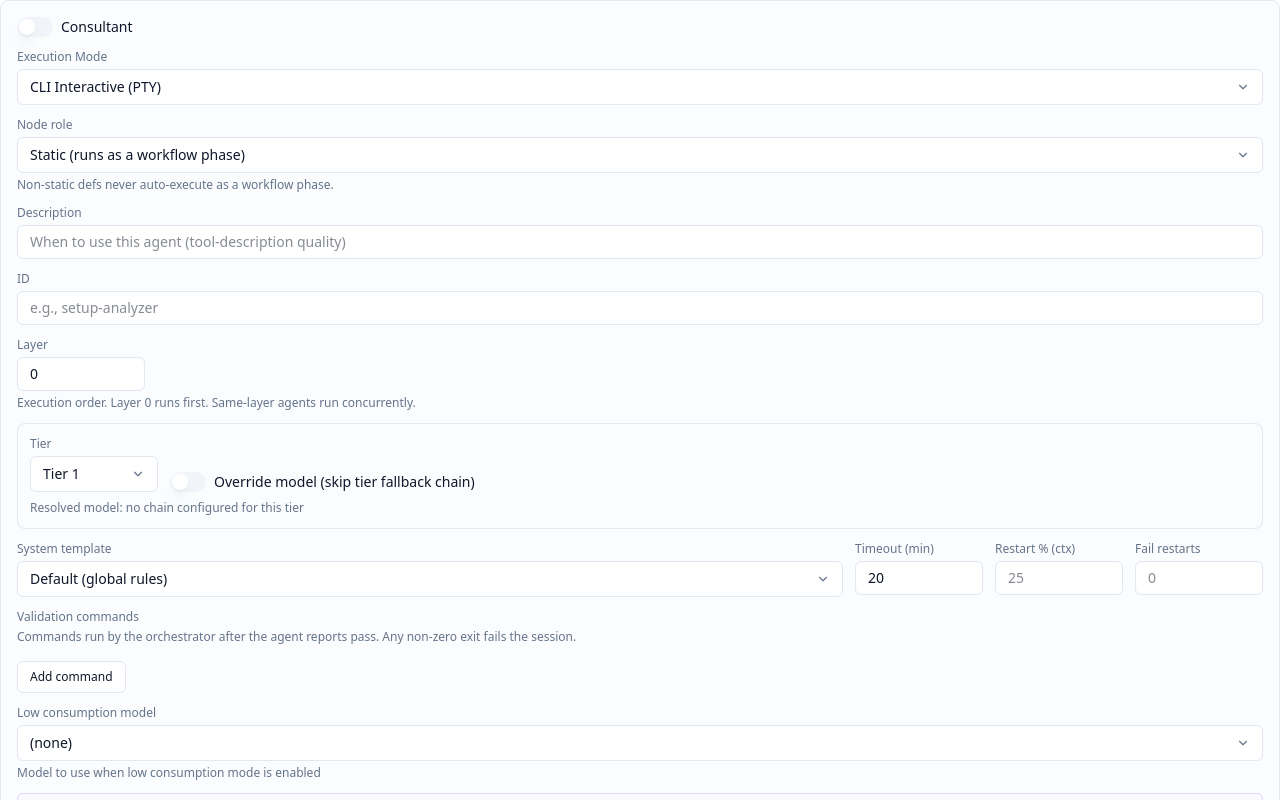
Scenario: AgentDefForm — model dropdown routing › api mode › switching back to cli restores CLI model options
Step 1. Click the button "CLI Interactive (PTY)" → (95, 86), box left=17, top=69, right=1263, bottom=105
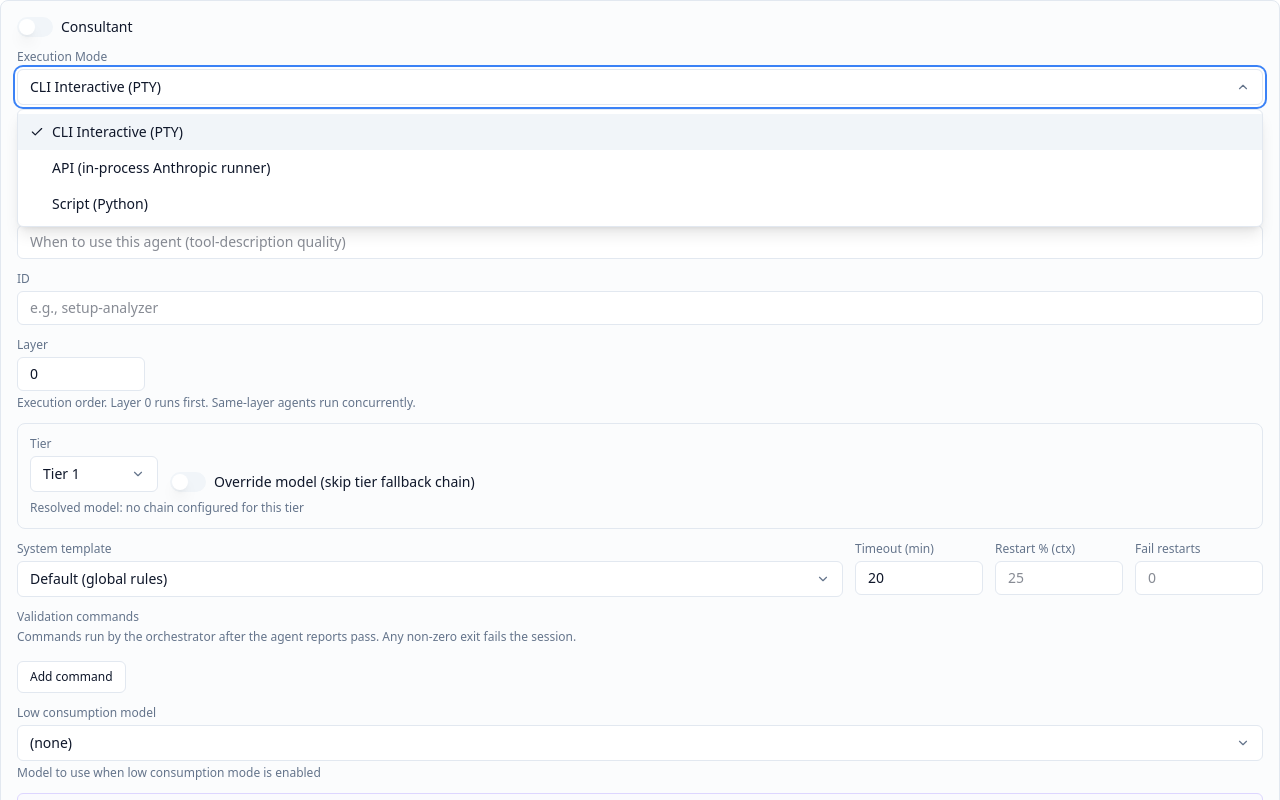
Step 2. Click the text "API (in-process Anthropic runner)" → (161, 168), box left=52, top=158, right=270, bottom=178
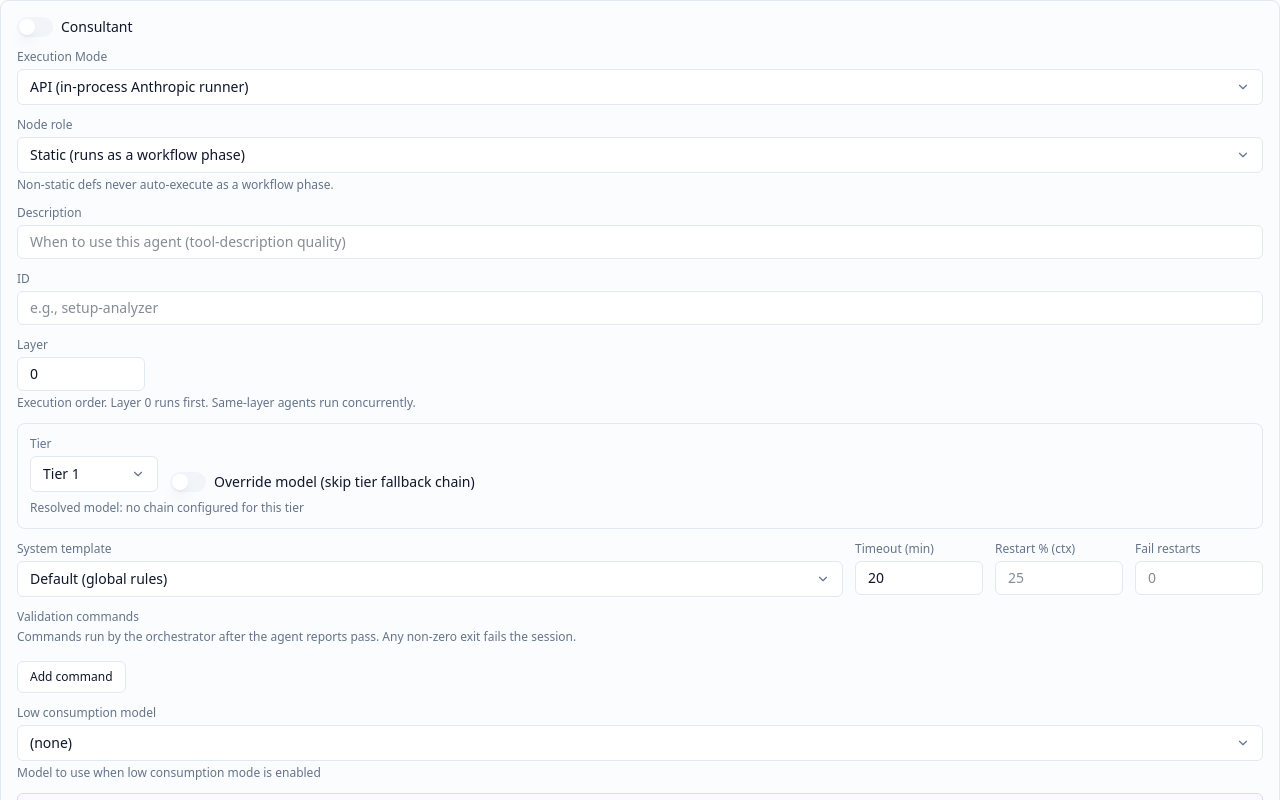
Step 3. Click the button "API (in-process Anthropic runner)" → (139, 86), box left=17, top=69, right=1263, bottom=105
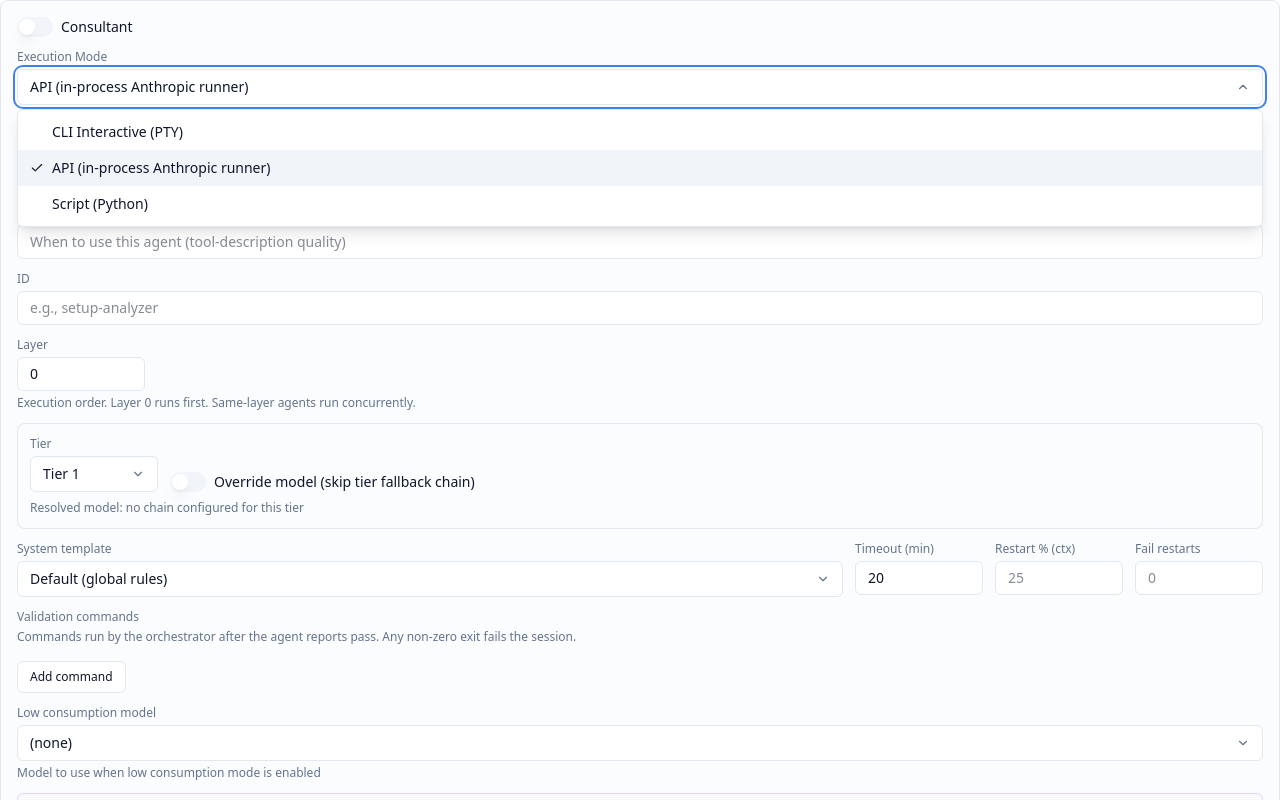
Step 4. Click the text "CLI Interactive (PTY)" → (117, 132), box left=52, top=122, right=183, bottom=142
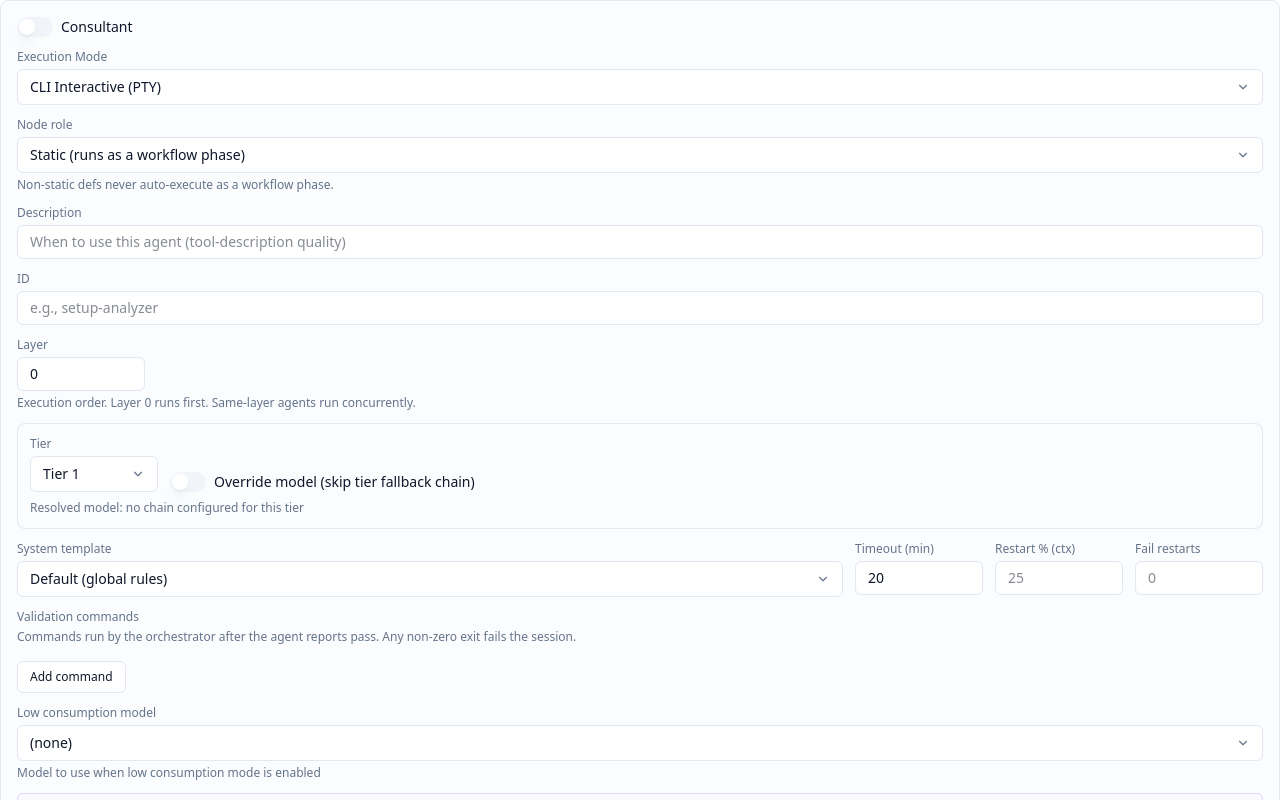
Step 5. Click the 2nd switch named "override model" → (188, 482), box left=170, top=472, right=206, bottom=492
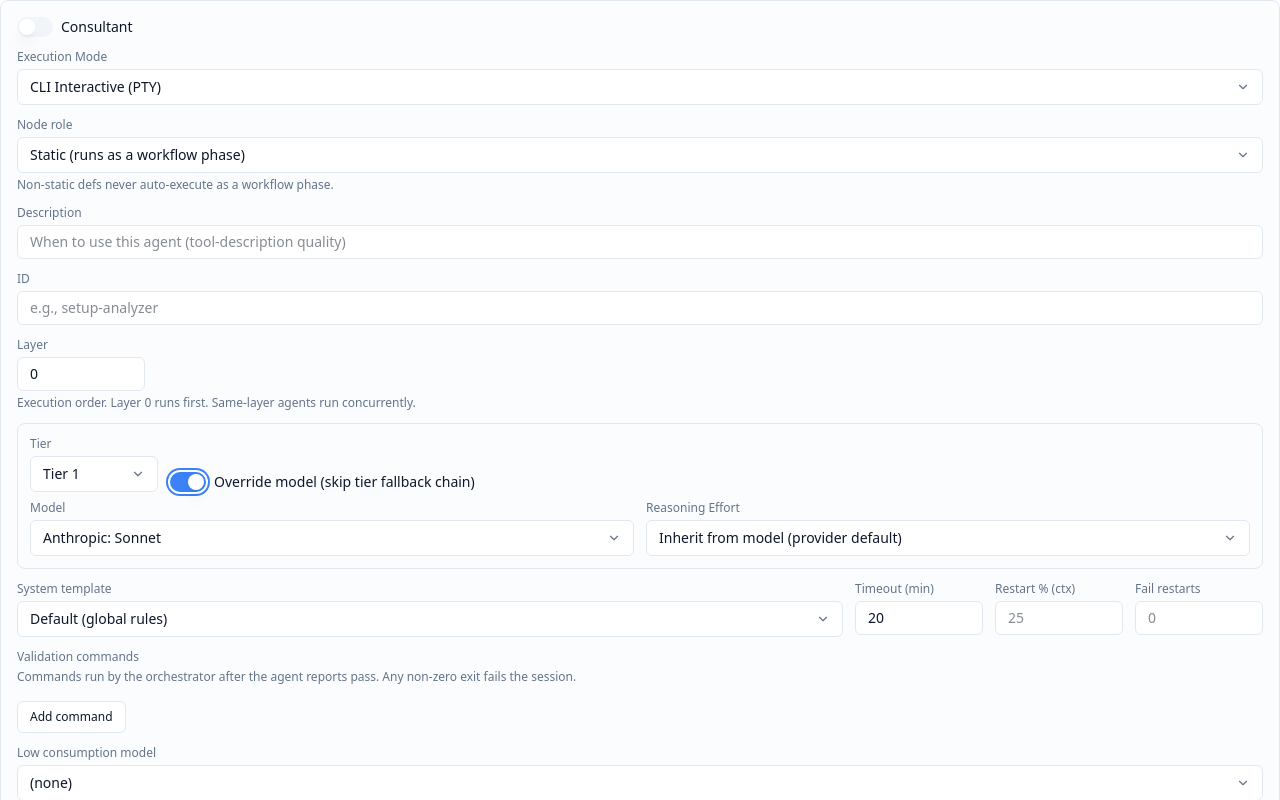
Step 6. Click the button "Anthropic: Sonnet" → (102, 538), box left=30, top=520, right=634, bottom=556
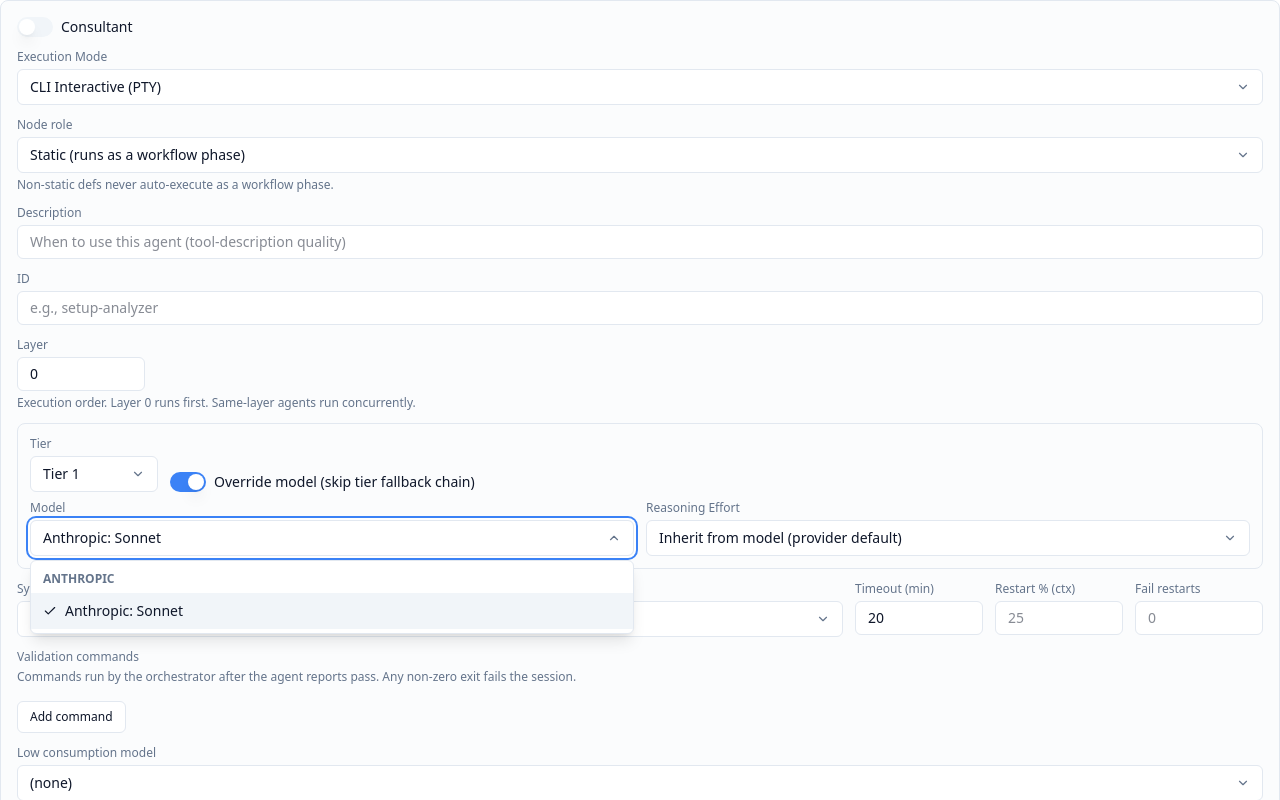
Now the 2nd text "Anthropic: Sonnet" is shown, box left=65, top=601, right=183, bottom=621
